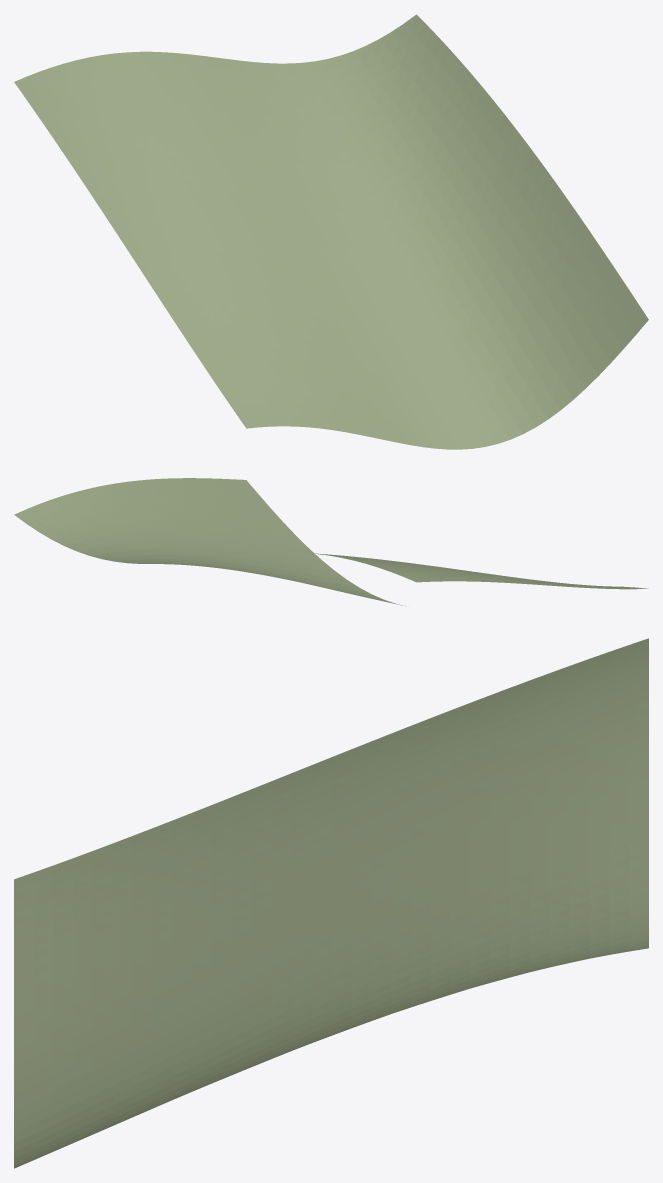
Rendered from expanse-14-8.glb.
The picture shows the model from 3 angles, top to bottom: view 1: azimuth 30°, elevation 25°; view 2: azimuth 150°, elevation 25°; view 3: azimuth 270°, elevation 25°; orthographic projection. The views are drawn at different scales.
Visible parts, largest first — view 1: expanse-14-8; view 2: expanse-14-8; view 3: expanse-14-8.
Part boxes in pixels (<box>): expanse-14-8: <box>14,14,648,449</box>; expanse-14-8: <box>14,478,648,606</box>; expanse-14-8: <box>14,638,648,1168</box>.
Bounding box in the file's own units: 256 × 158 × 256.
